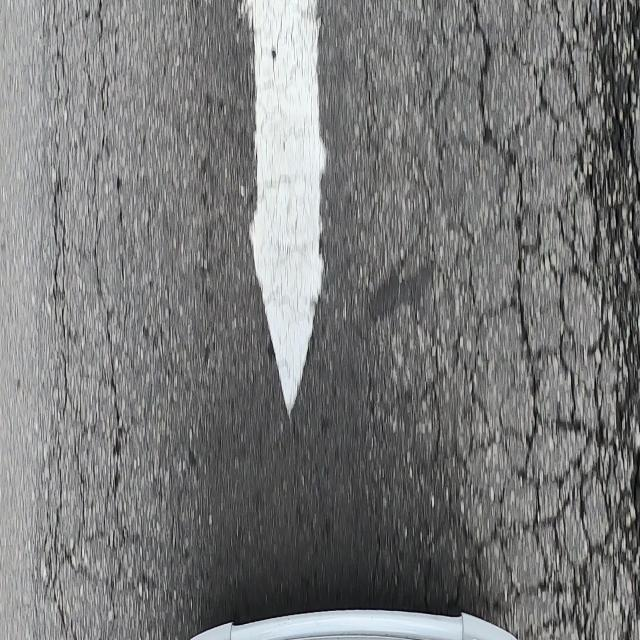Retak-Buaya: (367, 0, 639, 640), (41, 1, 148, 640)
